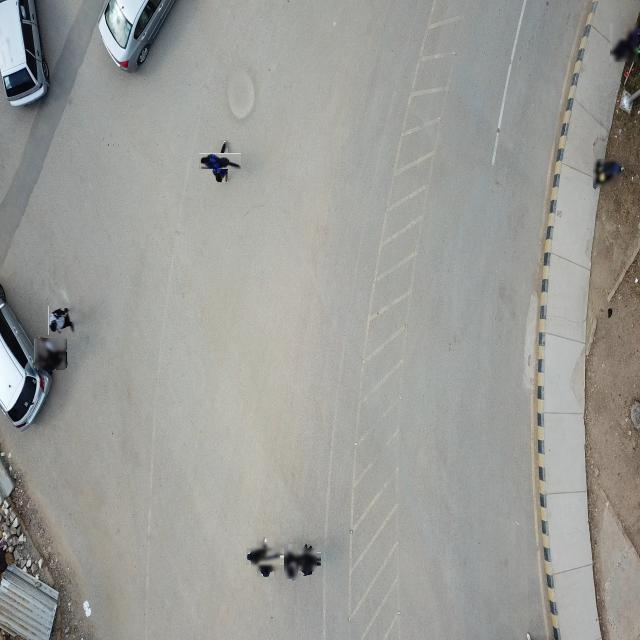Manusia: (610, 23, 639, 63), (35, 338, 67, 370), (205, 147, 236, 177), (251, 542, 281, 572), (593, 159, 621, 189), (48, 306, 75, 336), (295, 548, 318, 572), (284, 544, 299, 580)
